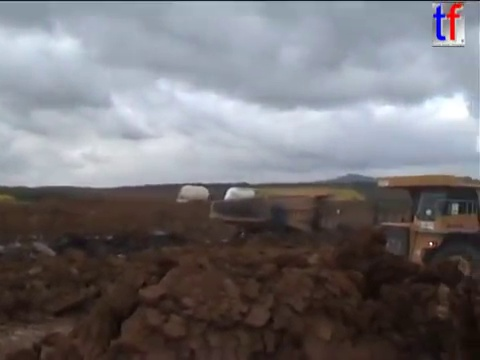truck: (369, 172, 480, 301), (207, 189, 344, 253), (221, 184, 269, 210), (173, 182, 218, 209)
